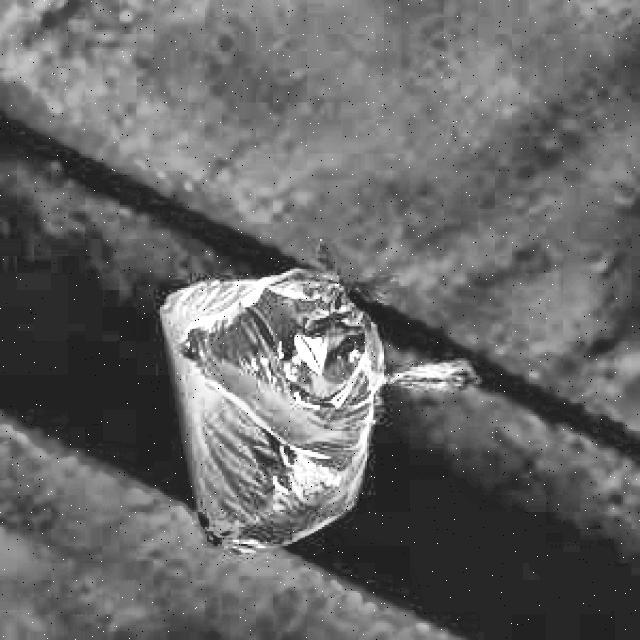Trashbag: (139, 256, 400, 556)
